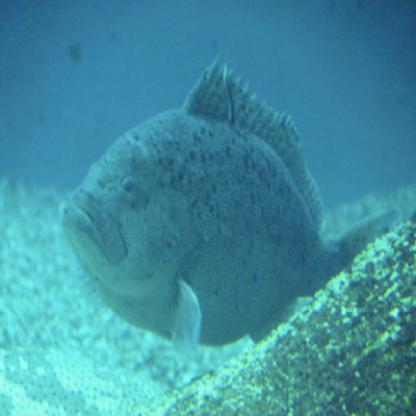Bio: (57, 54, 396, 358)
